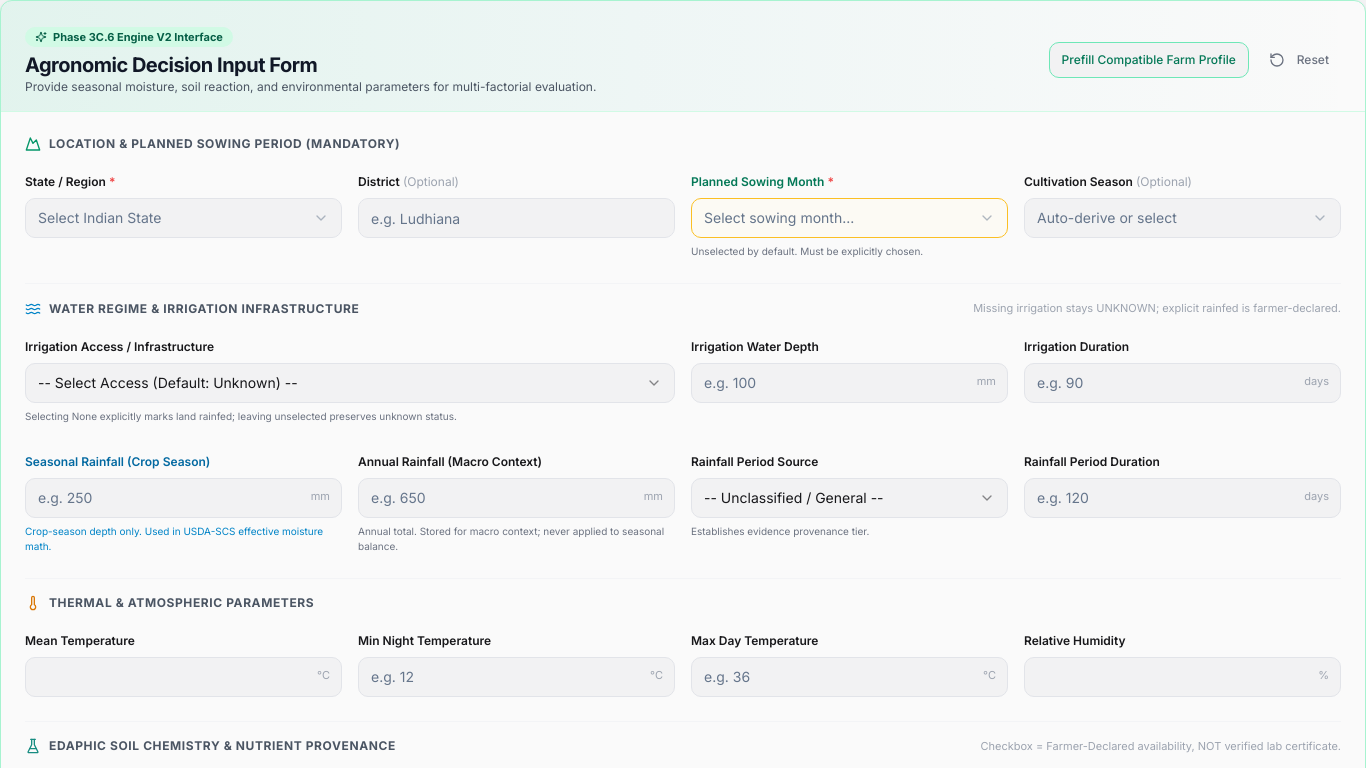
Test case: Phase 3C.6.3: Frontend V2 Integration Tests › Phase 3C.6.3.1: V2 Input Defaults & Provenance Closure › 9. legitimate zero values are not discarded by profile prefill
The image size is (1366, 768).
What coordinates should you click on to do the following:
click the button "Prefill Compatible Farm Profile"
I would click on:
 (1149, 60)
Its box is [1048,42,1249,78].
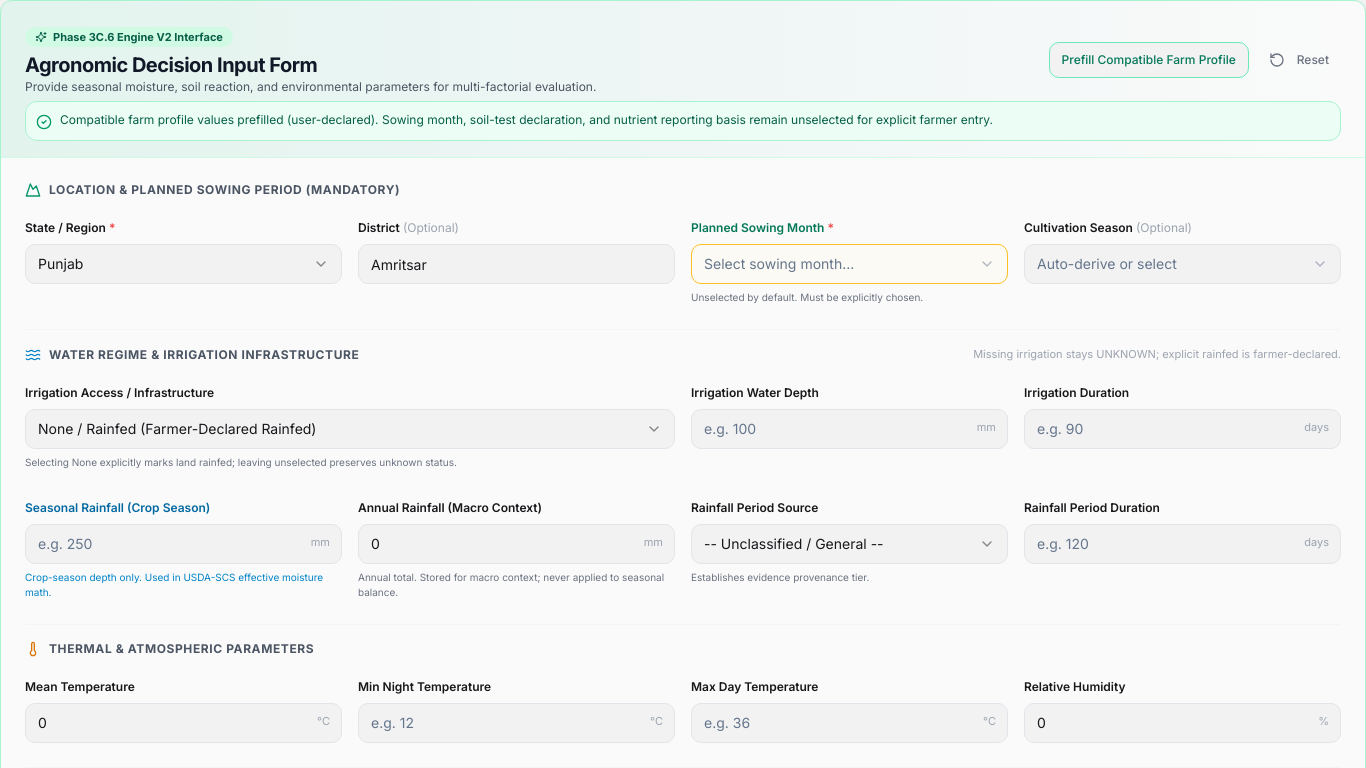
Result: the number field labelled "Mean Temperature" holds "0" at [25,703,342,743]
Result: the number field labelled "Relative Humidity" holds "0" at [1024,703,1341,743]
Result: the number field labelled "Annual Rainfall (Macro Context)" holds "0" at [358,524,675,564]
